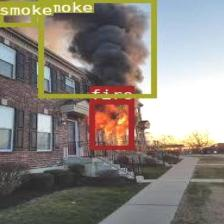fire: (89, 100, 132, 149)
smoke: (37, 0, 154, 97), (0, 1, 35, 25)
